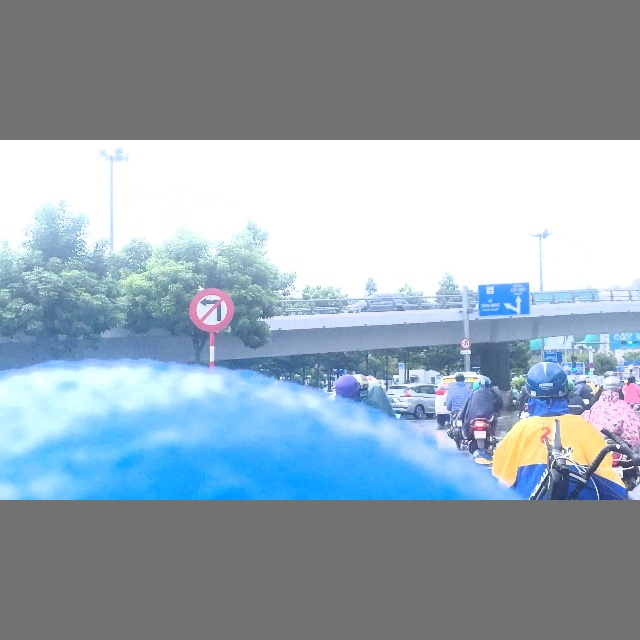P.123b: (189, 288, 233, 332)
P.124b1: (460, 338, 471, 349)
